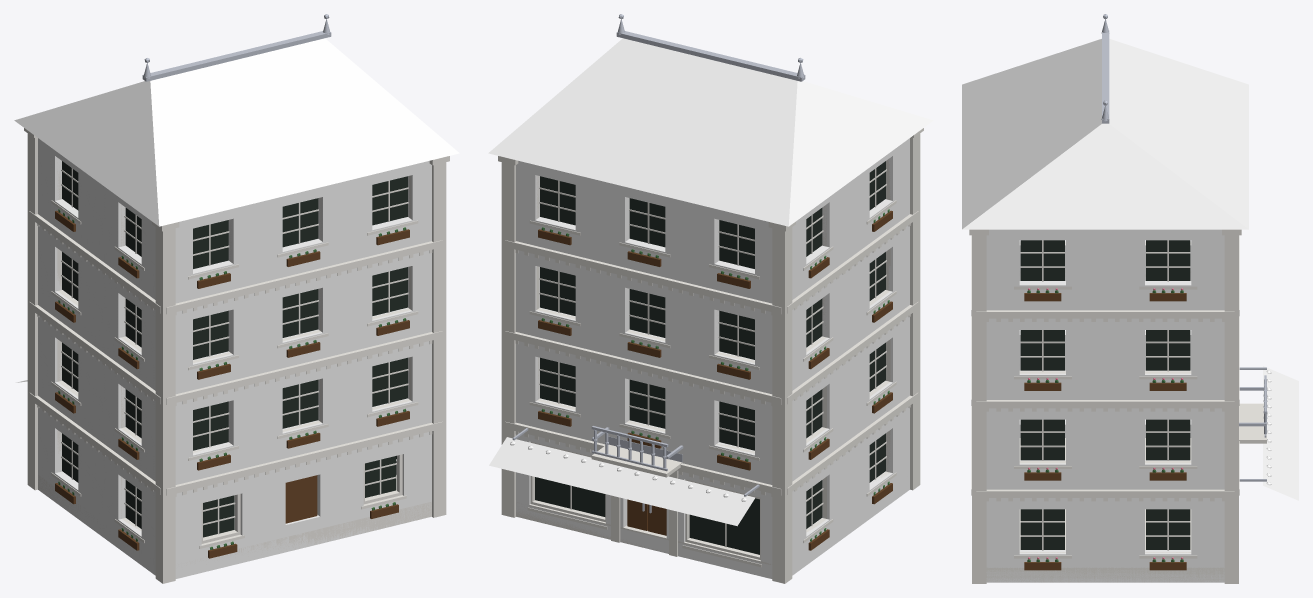
File: gedung-g06-blender-v1.glb
3 renders of one model, left to right at view 1: azimuth 30°, elevation 25°; view 2: azimuth 150°, elevation 25°; view 3: azimuth 270°, elevation 25°, orthographic.
Visible parts, largest first — view 1: Cube, Roof, Cube.006, Cube.018, Cube.009, Cone, Icosphere; view 2: Cube, Roof, Cube.006, Cube.018, Icosphere.295, Cube.009, Cone, Icosphere; view 3: Cube, Roof, Cube.006, Cube.018, Icosphere.295, Cube.009, Cone, Icosphere.
Boxes of the visible parts, left/top/right/bottom form: Cube: left=38, top=138, right=431, bottom=578; Roof: left=14, top=38, right=459, bottom=226; Cube.006: left=24, top=128, right=449, bottom=583; Cube.018: left=62, top=161, right=407, bottom=537; Cube.009: left=55, top=210, right=409, bottom=558; Cone: left=142, top=14, right=331, bottom=81; Icosphere: left=58, top=209, right=406, bottom=549; Cube: left=516, top=138, right=909, bottom=578; Roof: left=488, top=38, right=933, bottom=226; Cube.006: left=498, top=128, right=923, bottom=583; Cube.018: left=535, top=161, right=885, bottom=554; Icosphere.295: left=489, top=437, right=754, bottom=526; Cube.009: left=538, top=210, right=892, bottom=550; Cone: left=512, top=14, right=805, bottom=513; Icosphere: left=541, top=209, right=889, bottom=541; Cube: left=986, top=229, right=1224, bottom=582; Roof: left=962, top=39, right=1248, bottom=229; Cube.006: left=969, top=229, right=1266, bottom=583; Cube.018: left=1020, top=240, right=1190, bottom=549; Icosphere.295: left=1263, top=366, right=1298, bottom=500; Cube.009: left=1024, top=293, right=1186, bottom=570; Cone: left=1101, top=14, right=1267, bottom=481; Icosphere: left=1027, top=290, right=1183, bottom=562.
Size of the model in its own units: 10.4 by 15.34 by 10.21.
